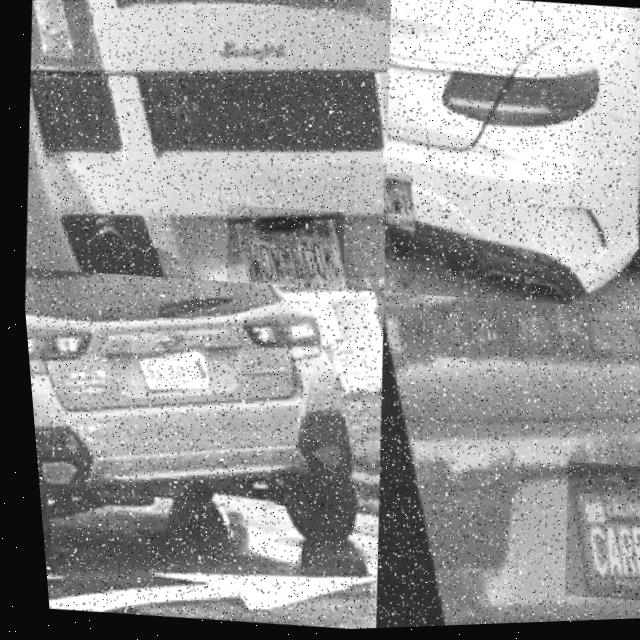LicensePlate: (545, 463, 640, 609), (224, 213, 338, 287), (126, 343, 200, 387), (380, 176, 407, 230)
